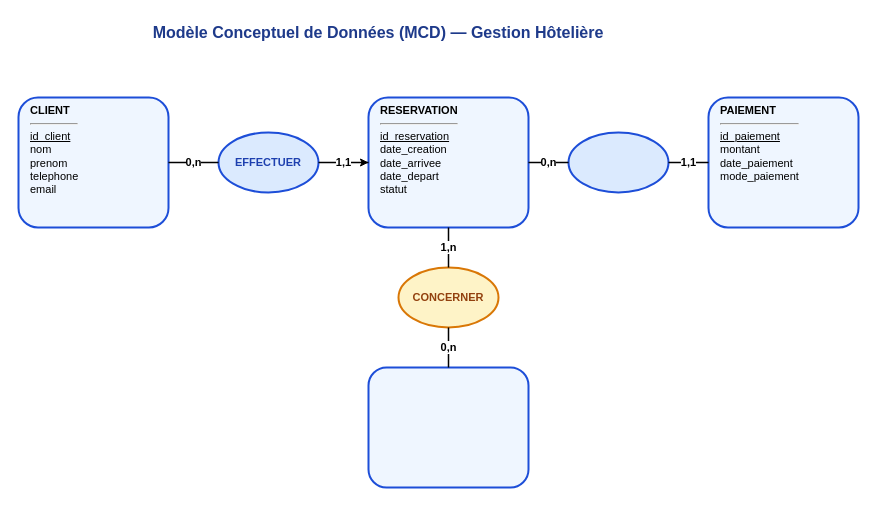
This 876x505 diagram has some shape labels left out. The shapes that lost their labels are listed below. From the top down, each one's centre as x and y in pixels, then its label:
At (x=618, y=162): "REGLER".
At (x=448, y=427): "CHAMBRE id_chambre numero_porte type_chambre prix_nuit".
